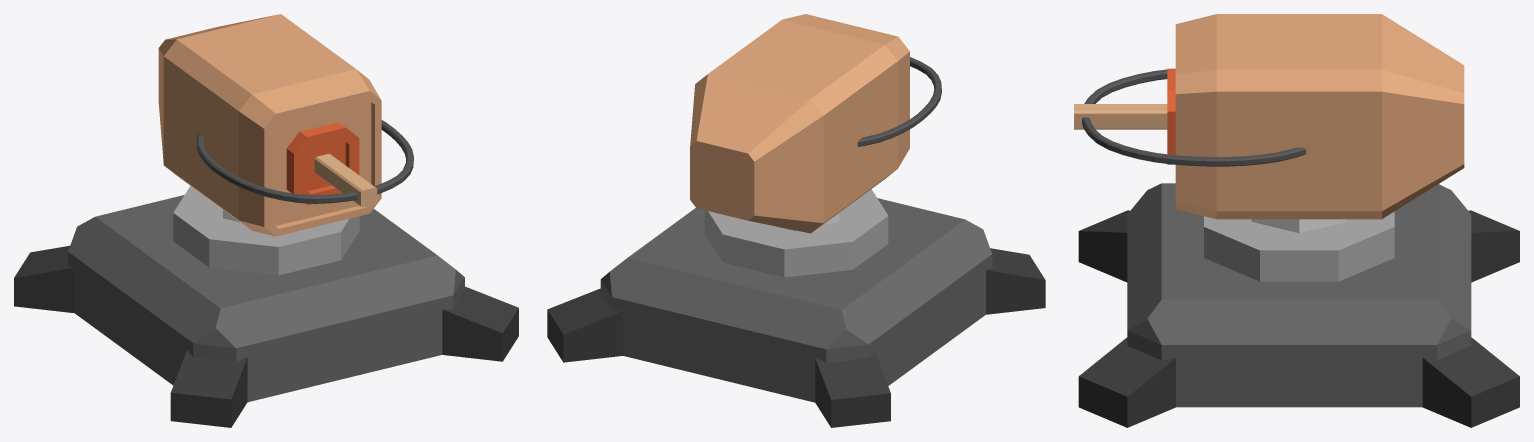
Rendered from Laser_TD_1.fbx.
3 views of the same model, side by side, from view 1: azimuth 30°, elevation 25°; view 2: azimuth 150°, elevation 25°; view 3: azimuth 270°, elevation 25° (orthographic). The views are drawn at different scales.
Visible parts, largest first — view 1: Stand.001, Cube; view 2: Stand.001, Cube; view 3: Stand.001, Cube.
Boxes of the visible parts, box(x1,y1,x2,y2) form: Stand.001: box(14, 186, 518, 427); Cube: box(158, 14, 413, 236); Stand.001: box(547, 189, 1045, 427); Cube: box(690, 14, 941, 233); Stand.001: box(1078, 183, 1519, 427); Cube: box(1074, 14, 1464, 219).
Bounding box in the file's own units: 641 × 470 × 648.
